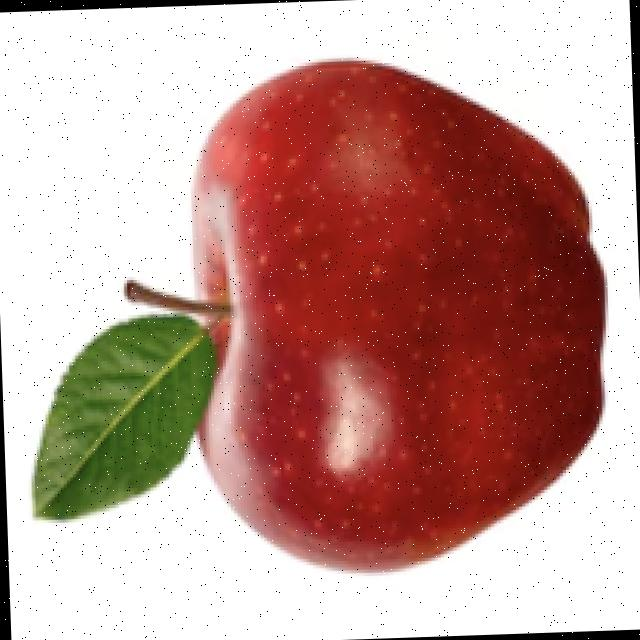apple: (25, 53, 609, 581)
